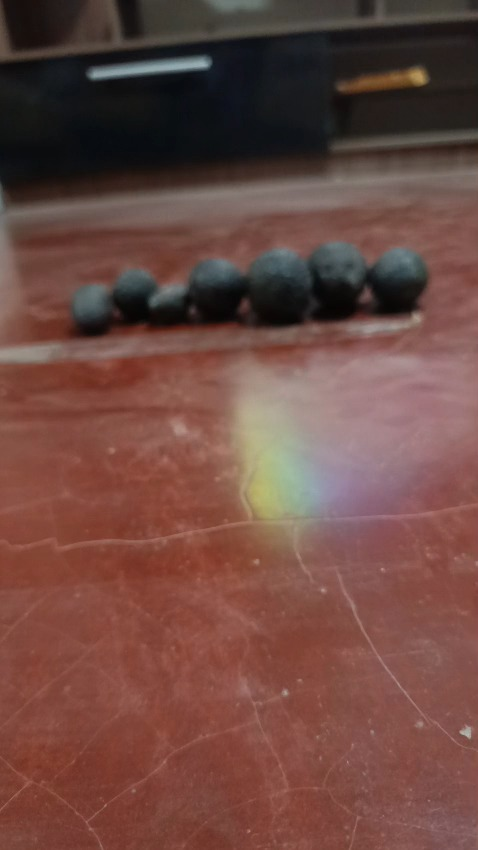Primera: (247, 247, 312, 324), (307, 240, 368, 317)
Segunda: (368, 246, 427, 314), (187, 256, 247, 321), (112, 267, 158, 321)
Tercera: (71, 283, 112, 334), (148, 284, 190, 324)
